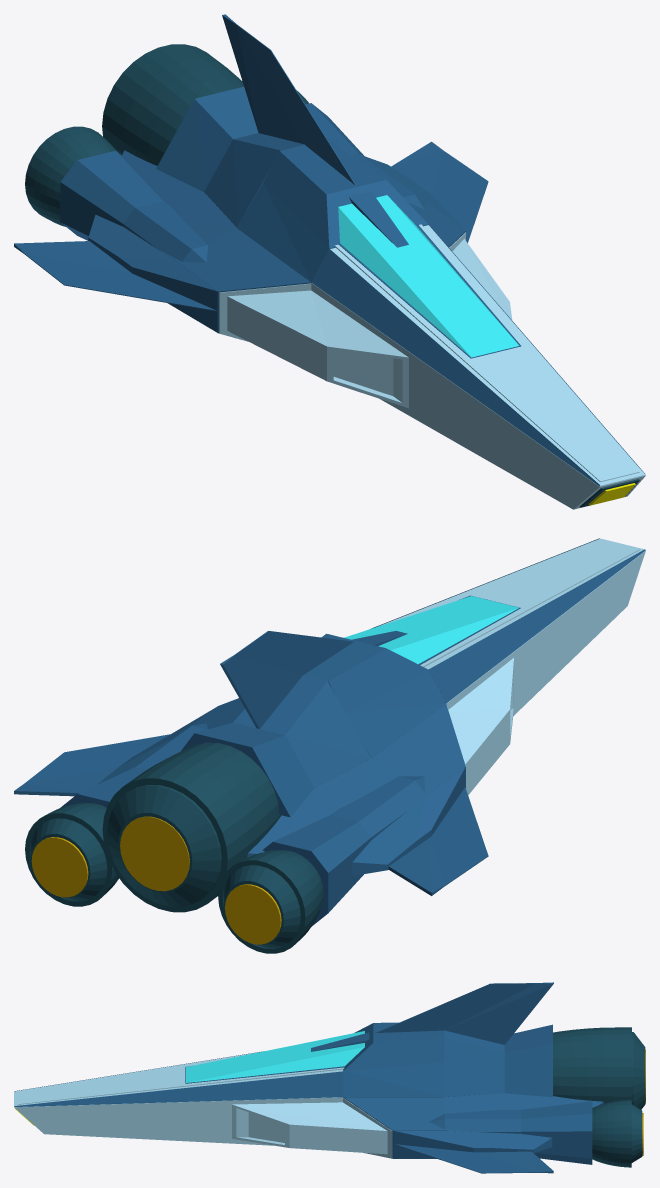
File: klinge.glb
3 views of the same model, one above another, from view 1: azimuth 30°, elevation 25°; view 2: azimuth 150°, elevation 25°; view 3: azimuth 270°, elevation 25° (orthographic). The views are drawn at different scales.
Parts seen in each view (by area): view 1: Object_2; view 2: Object_2; view 3: Object_2.
Boxes of the visible parts, bbox=[...] form: Object_2: bbox=[14, 14, 645, 509]; Object_2: bbox=[14, 538, 645, 953]; Object_2: bbox=[14, 982, 645, 1173].
Size of the model in its own units: 2.61 by 1.31 by 5.
